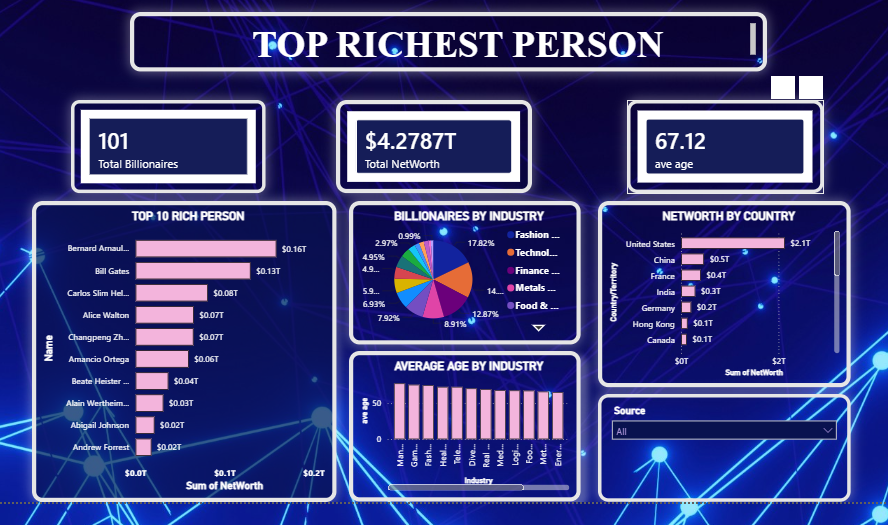

This screenshot's page, from the dashboard's own definition file:
{"tool":"powerbi","page":{"name":"Page 1","canvas":[1280,720],"ordinal":0},"visuals":[{"type":"cardVisual","fields":{"Data":["TopRichestInWorld.Total NetWorth"]},"box":[487.3,146.3,279.5,133.2],"z":0},{"type":"cardVisual","fields":{"Data":["TopRichestInWorld.ave age"]},"box":[902.9,146.3,281,133.2],"z":1000},{"type":"barChart","title":"TOP 10 RICH PERSON","fields":{"Category":["Top 10.Name"],"Y":["Sum(Top 10.NetWorth)"]},"box":[52.7,289.8,434.6,430.2],"z":2000},{"type":"clusteredBarChart","title":"NETWORTH BY COUNTRY","fields":{"Category":["TopRichestInWorld.Country/Territory"],"Y":["Sum(TopRichestInWorld.NetWorth)"]},"box":[862,289.8,361.5,266.3],"z":3000},{"type":"pieChart","title":"BILLIONAIRES BY INDUSTRY","fields":{"Category":["TopRichestInWorld.Industry"],"Y":["Top 10.Measure 2"]},"box":[506.3,289.8,330.7,204.9],"z":4000},{"type":"columnChart","title":"AVERAGE AGE BY INDUSTRY","fields":{"Y":["TopRichestInWorld.ave age"],"Category":["TopRichestInWorld.Industry"]},"box":[506.3,504.9,330.7,215.1],"z":5000},{"type":"slicer","fields":{"Values":["TopRichestInWorld.Source"]},"box":[862,566.3,361.5,153.7],"z":6000},{"type":"textbox","box":[193.2,20.5,910.2,84.9],"z":7000},{"type":"cardVisual","fields":{"Data":["Top 10.Total Billionaires"]},"box":[108.3,146.3,278,133.2],"z":8000}]}

Visuals, with their boxes on the page's 1280x720 design canvas (x1, y1, x2, y2). These are canvas units, not pixel positions in the 888x525 screenshot, which may show the page scaled, cropped or inside an application window:
cardVisual - TopRichestInWorld.Total NetWorth: <region>487, 146, 767, 280</region>
cardVisual - TopRichestInWorld.ave age: <region>903, 146, 1184, 280</region>
"TOP 10 RICH PERSON" barChart: <region>53, 290, 487, 720</region>
"NETWORTH BY COUNTRY" clusteredBarChart: <region>862, 290, 1224, 556</region>
"BILLIONAIRES BY INDUSTRY" pieChart: <region>506, 290, 837, 495</region>
"AVERAGE AGE BY INDUSTRY" columnChart: <region>506, 505, 837, 720</region>
slicer - TopRichestInWorld.Source: <region>862, 566, 1224, 720</region>
textbox: <region>193, 20, 1103, 105</region>
cardVisual - Top 10.Total Billionaires: <region>108, 146, 386, 280</region>
